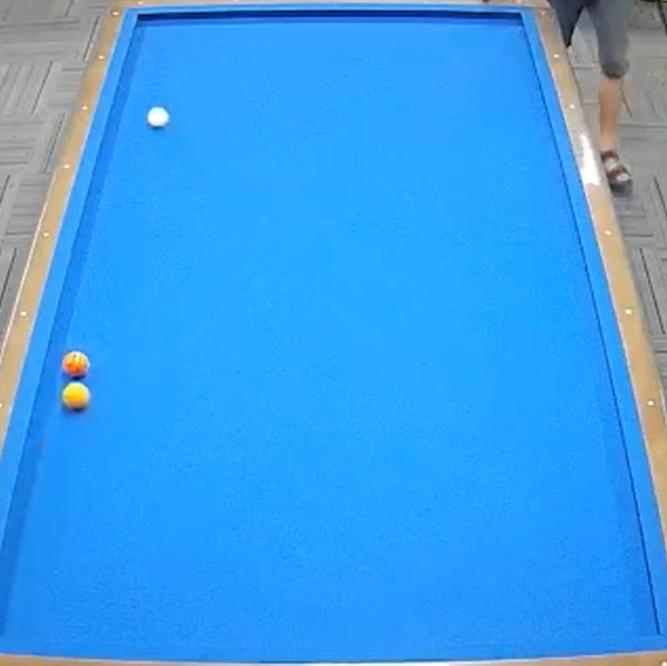orange ball: (62, 347, 95, 380)
white ball: (141, 102, 174, 134)
yellow ball: (56, 382, 91, 417)
